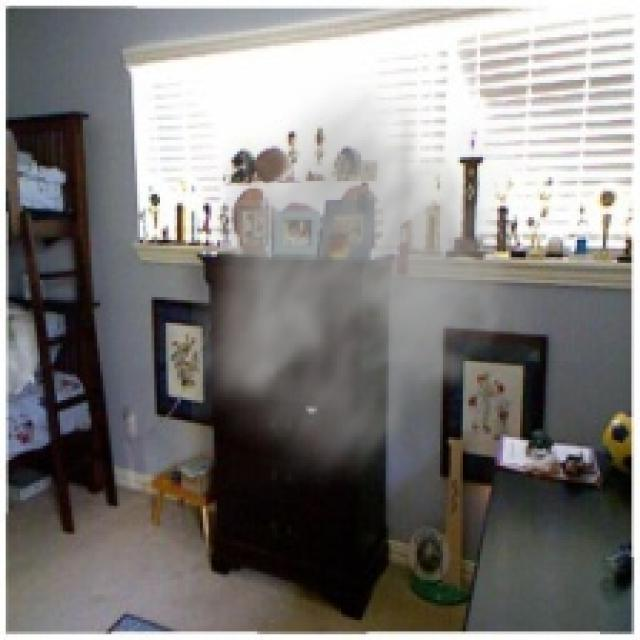smoke: (191, 72, 546, 497)
